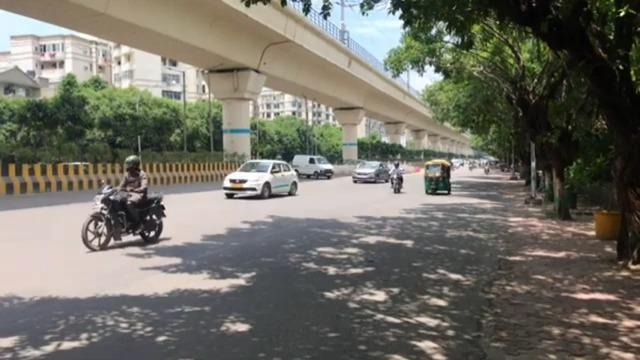Auto: (423, 158, 451, 194)
Bike: (81, 152, 166, 251), (388, 158, 405, 193)
